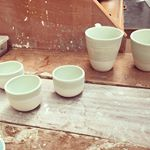cups: (81, 21, 125, 74), (4, 72, 44, 114), (50, 62, 89, 101), (128, 25, 150, 75)
